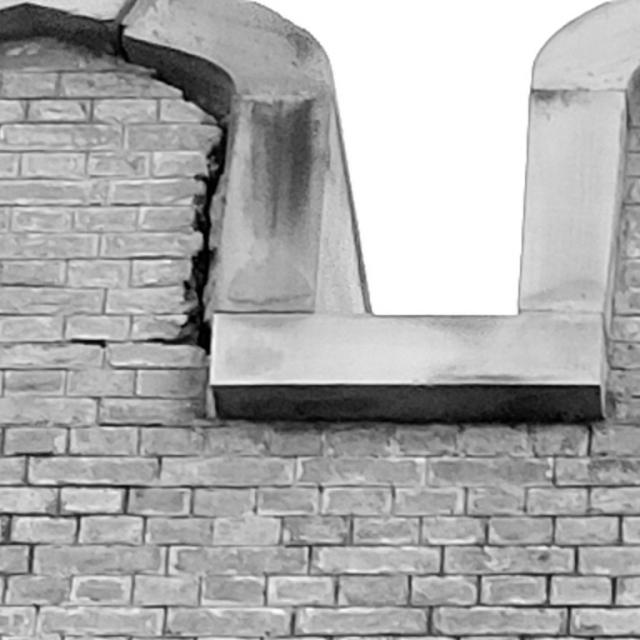crack: (117, 50, 228, 355)
